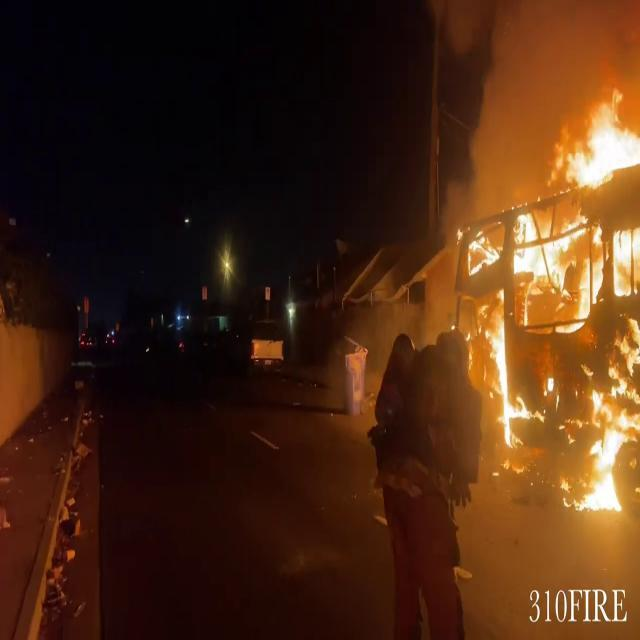Fire: (462, 90, 640, 494)
